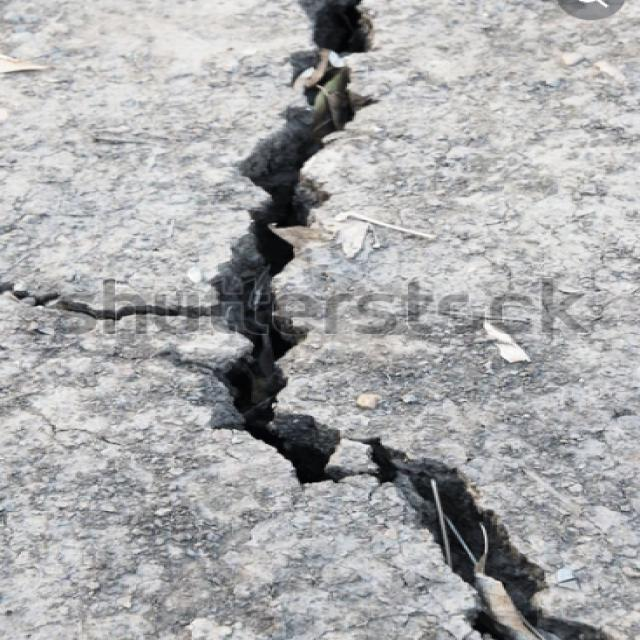branched cracks: (350, 438, 609, 639)
